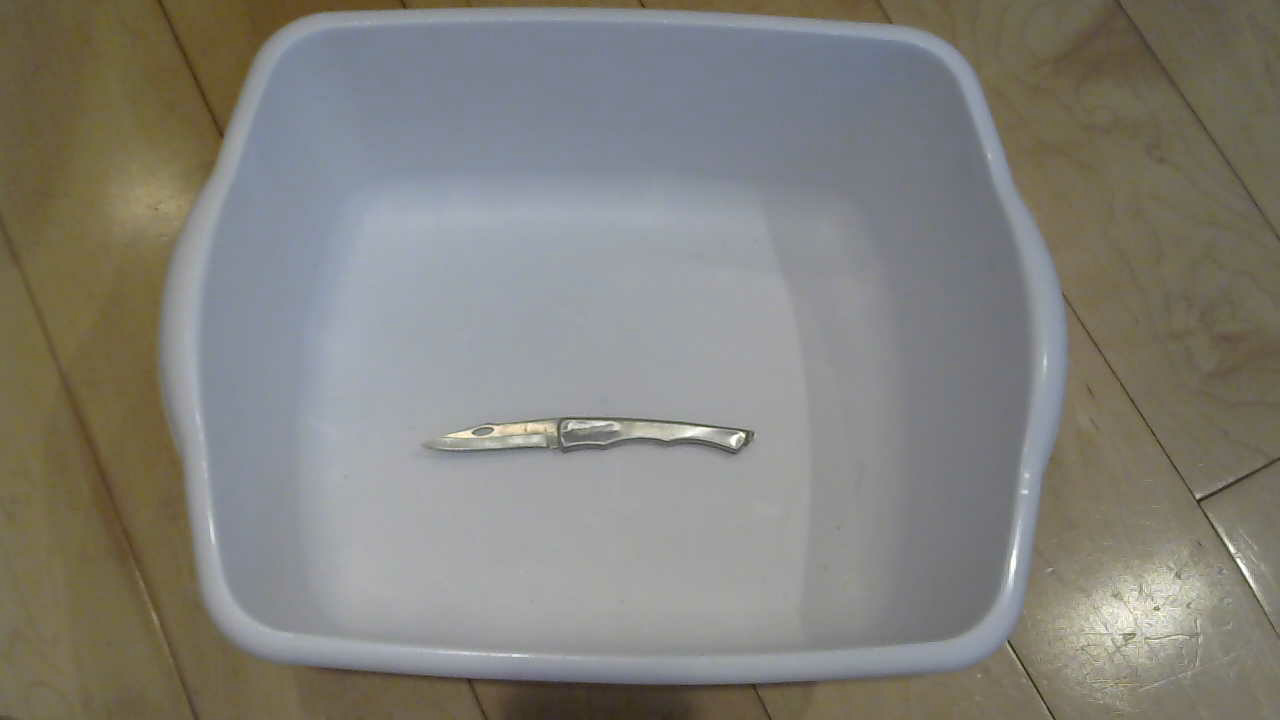knife: (425, 392, 800, 497)
